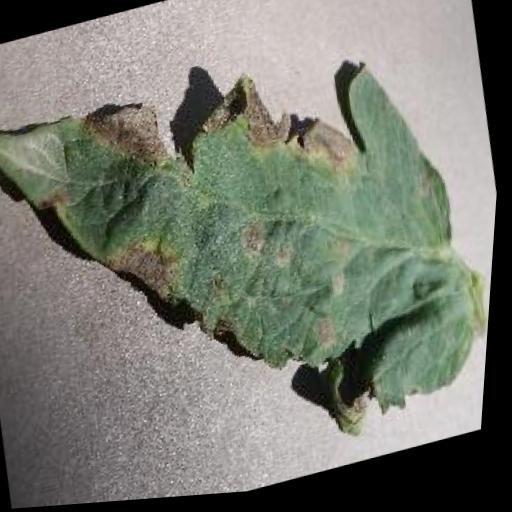Early Blight: (0, 11, 510, 512)
